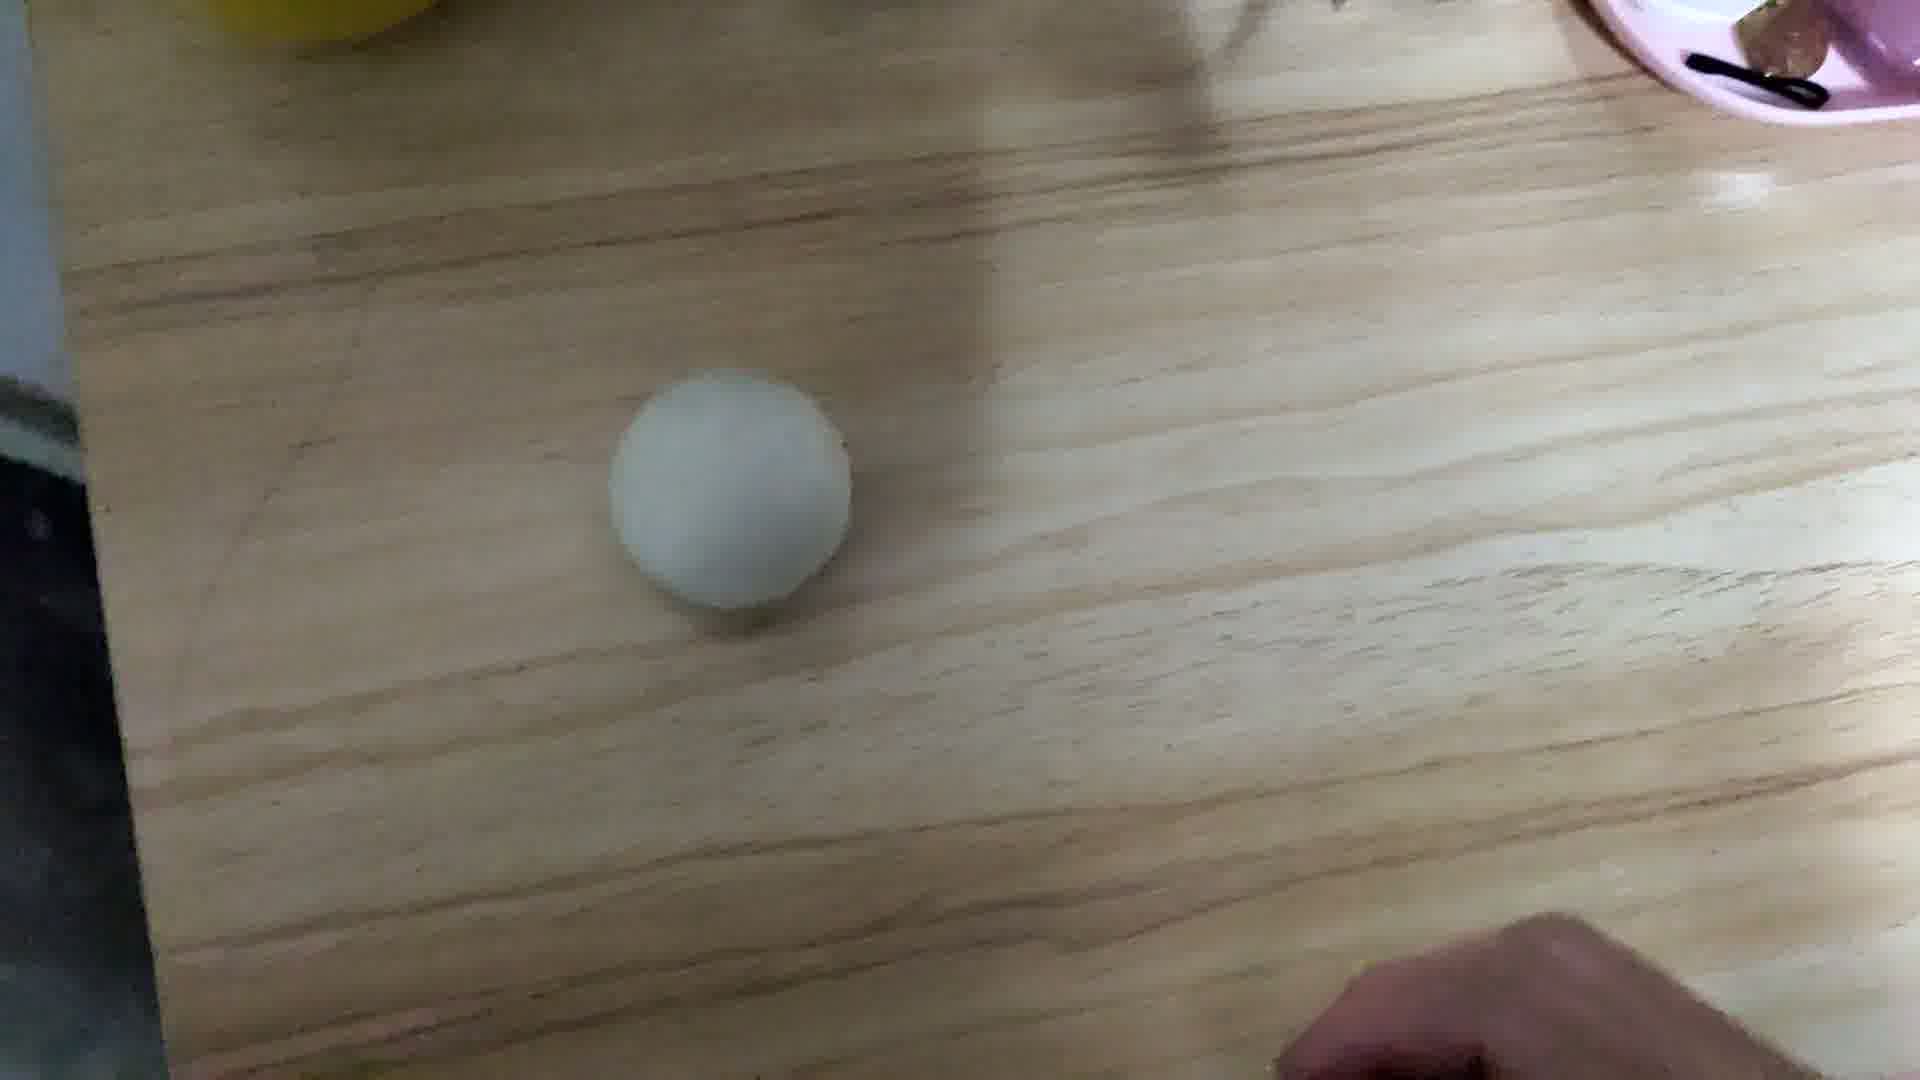Ball: (607, 369, 855, 608)
